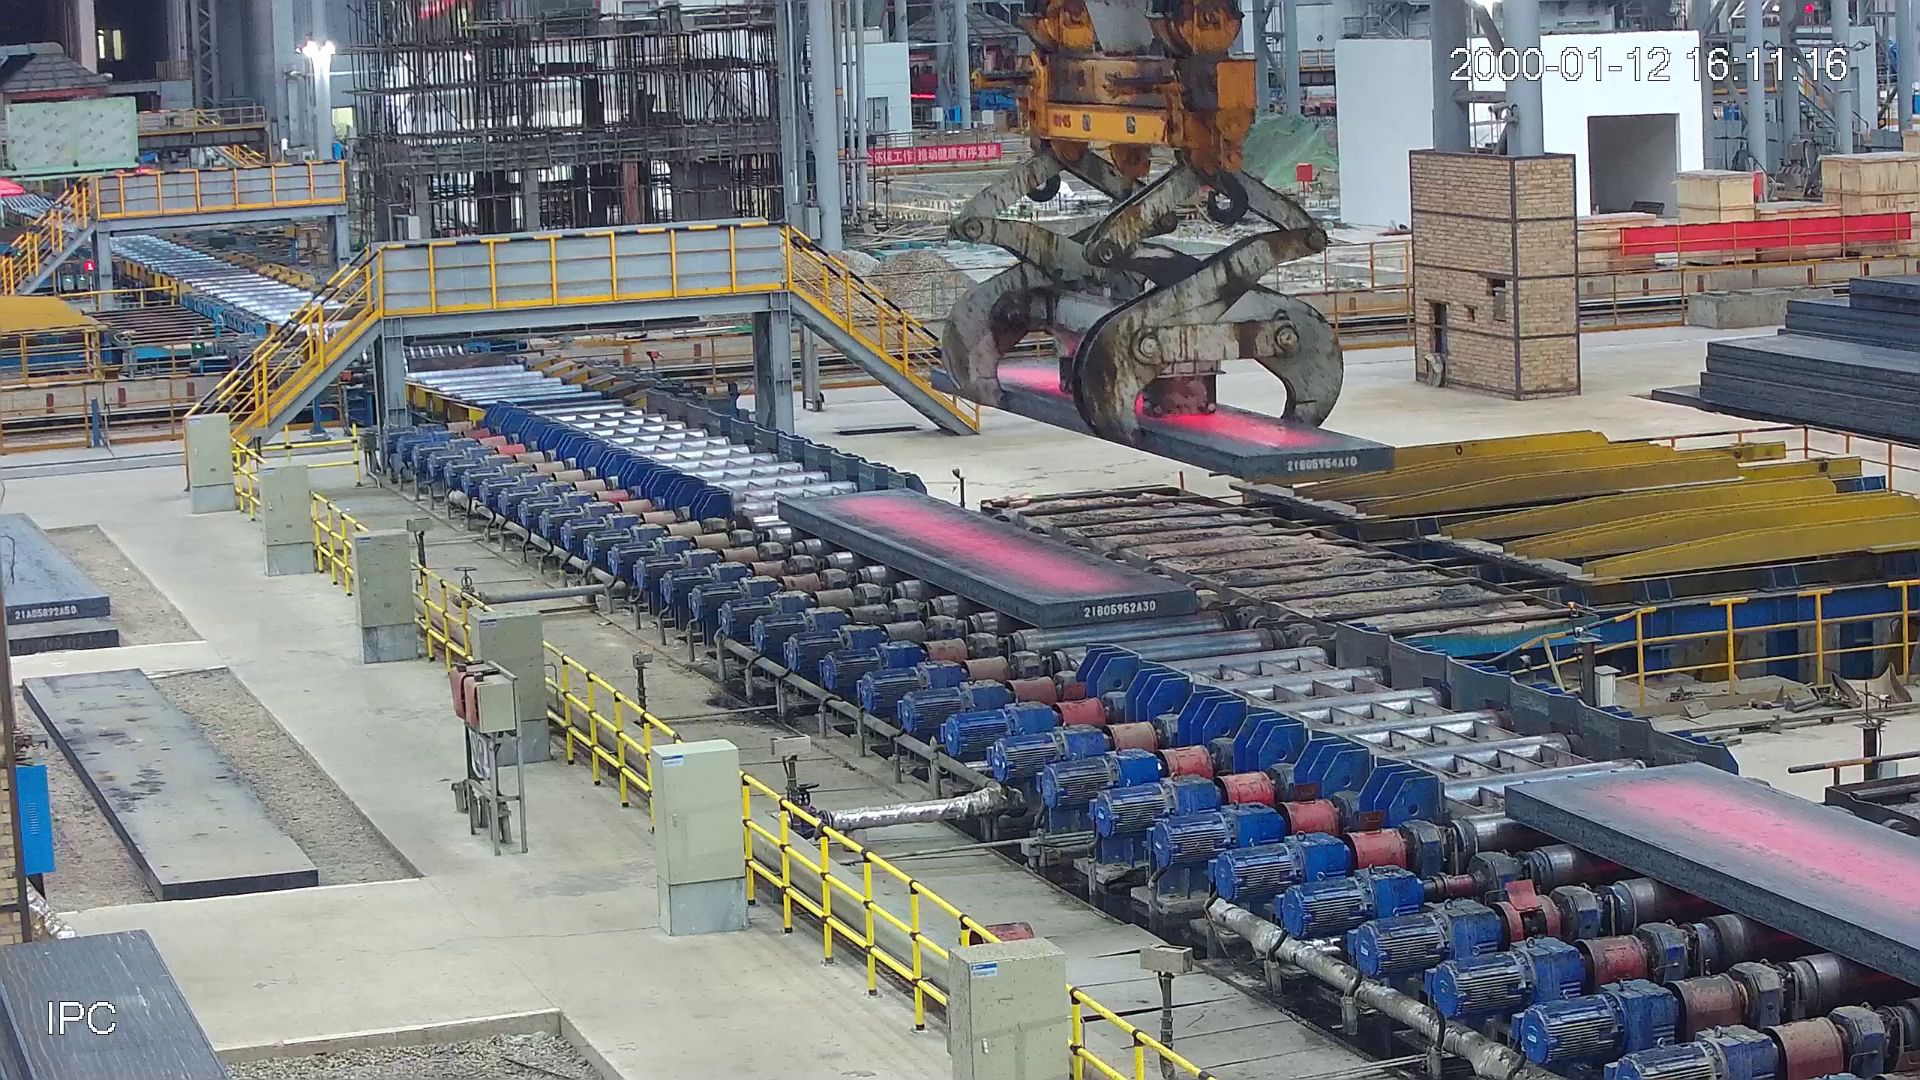craneandslab: (930, 1, 1400, 484)
slab: (1501, 761, 1920, 1000), (777, 496, 1193, 629)
